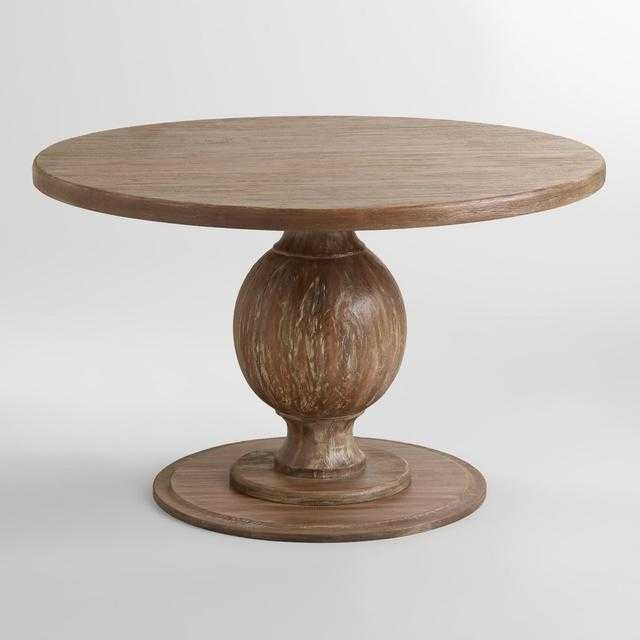obstacle: (33, 116, 604, 541)
